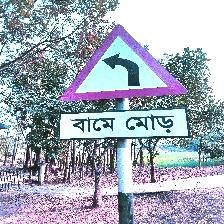Left-Turn: (56, 23, 191, 141)
